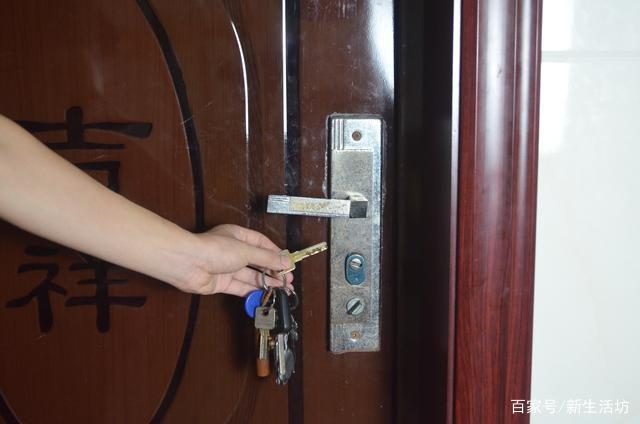key: (250, 306, 278, 361)
